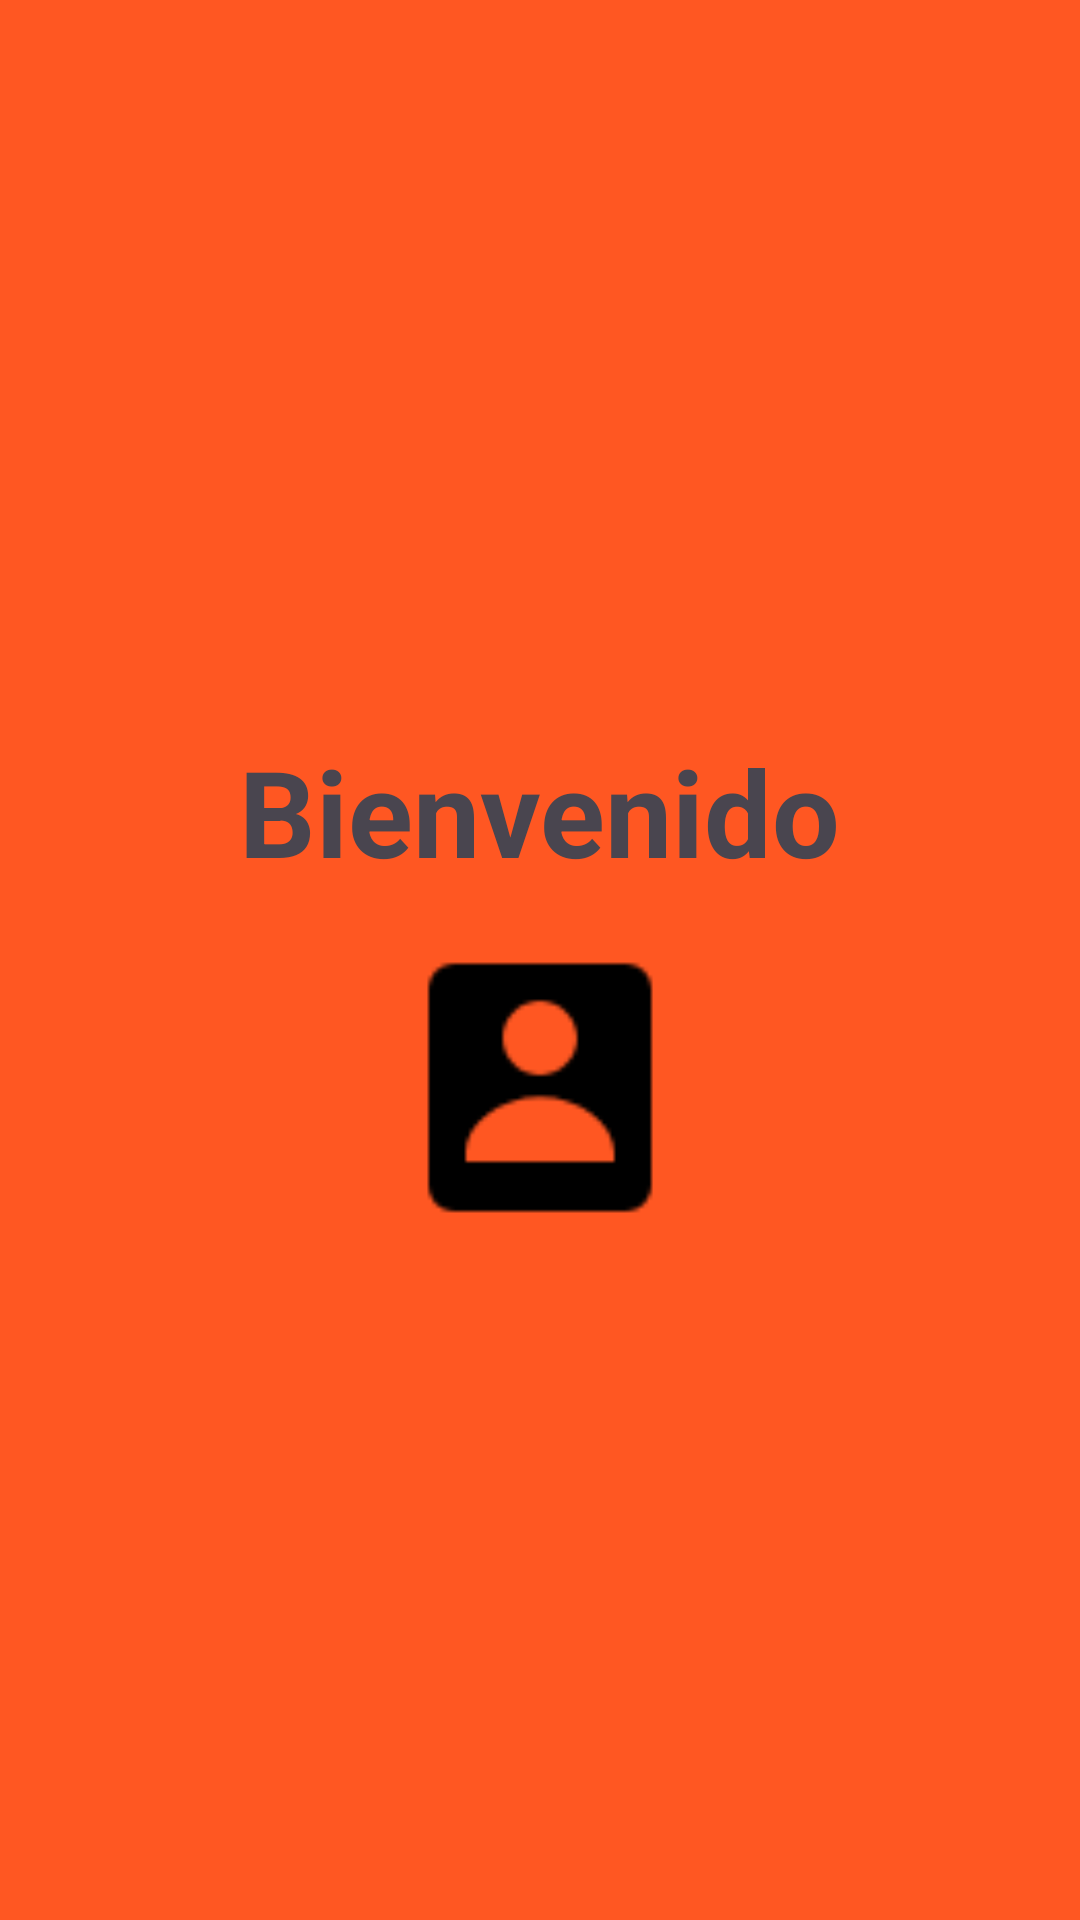

Screen size 1080 x 1920. Icon name, then its center in pixels as [x,y]:
user: [540,1087]
